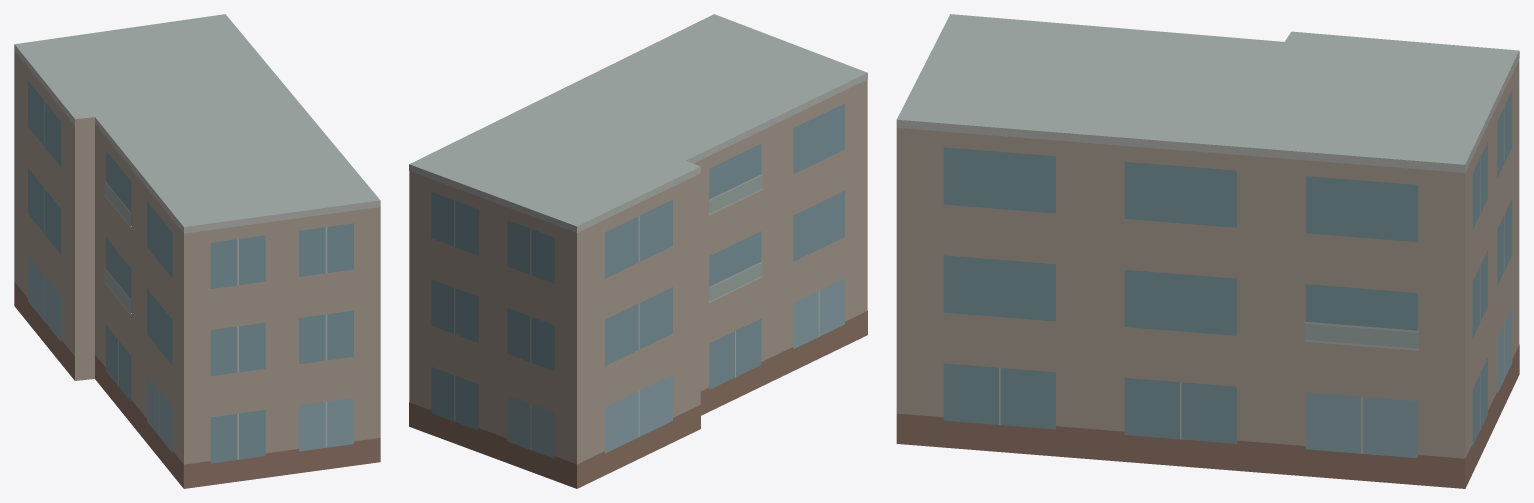
The model's file is survey-upis-32886521.glb.
3 views of the same model, side by side, from view 1: azimuth 30°, elevation 25°; view 2: azimuth 150°, elevation 25°; view 3: azimuth 270°, elevation 25° (orthographic). The views are drawn at different scales.
Visible parts, largest first — view 1: survey-upis-32886521.tmp; view 2: survey-upis-32886521.tmp; view 3: survey-upis-32886521.tmp.
Part boxes in pixels (box(x1,y1,x2,y2)): survey-upis-32886521.tmp: box(14, 14, 380, 488); survey-upis-32886521.tmp: box(409, 14, 867, 488); survey-upis-32886521.tmp: box(896, 14, 1519, 488).
Size of the model in its own units: 9.69 by 9.7 by 16.9.
